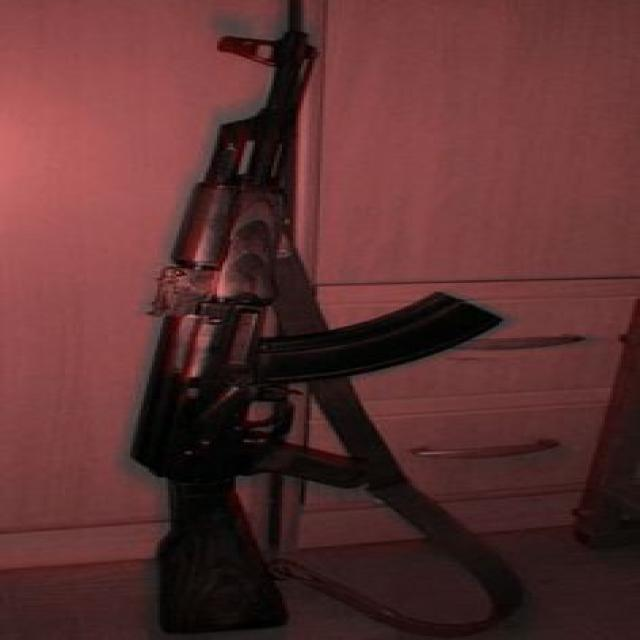ak: (150, 1, 496, 632)
